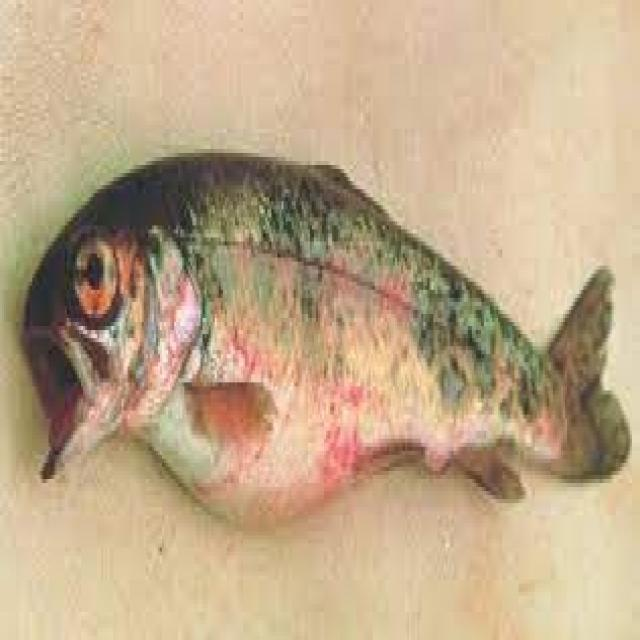EUS Disease: (26, 158, 633, 525), (149, 252, 241, 438), (294, 343, 400, 490), (340, 238, 487, 327)
